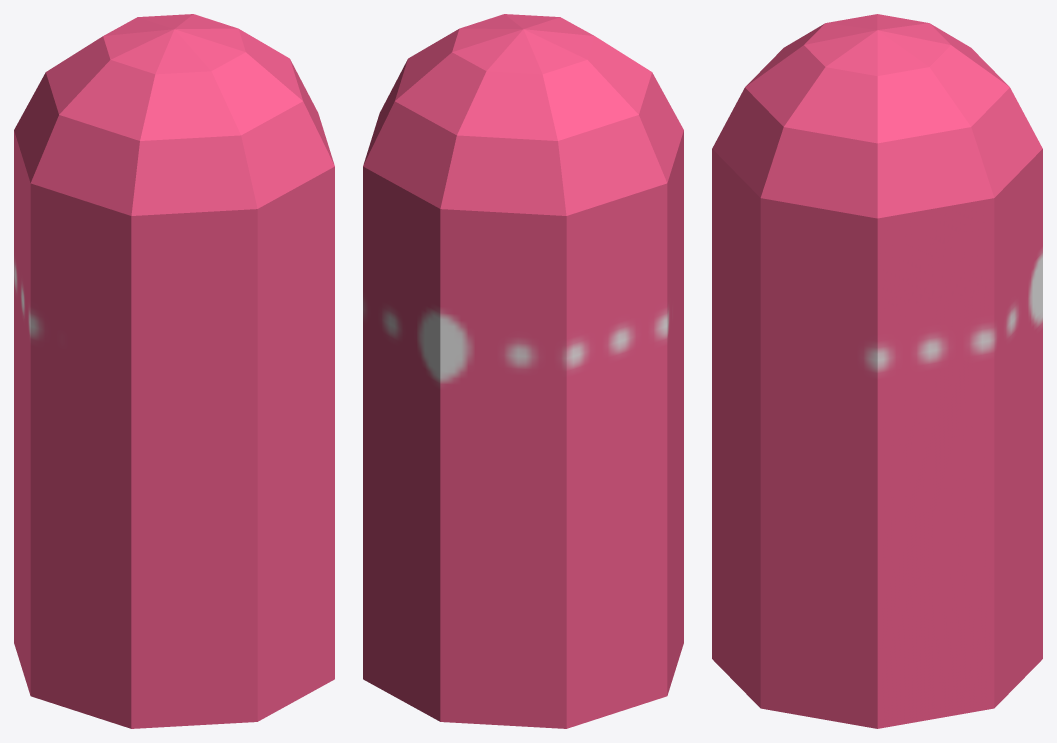
Rendered from wala_building01.fbx.
3 renders of one model, left to right at view 1: azimuth 30°, elevation 25°; view 2: azimuth 150°, elevation 25°; view 3: azimuth 270°, elevation 25°, orthographic.
Parts seen in each view (by area): view 1: wala_building01; view 2: wala_building01; view 3: wala_building01.
Part boxes in pixels (x1,y1,x2,y2): wala_building01: [14, 14, 334, 728]; wala_building01: [363, 14, 683, 728]; wala_building01: [712, 14, 1042, 728].
Bounding box in the file's own units: 2.12 × 4.44 × 2.12.
